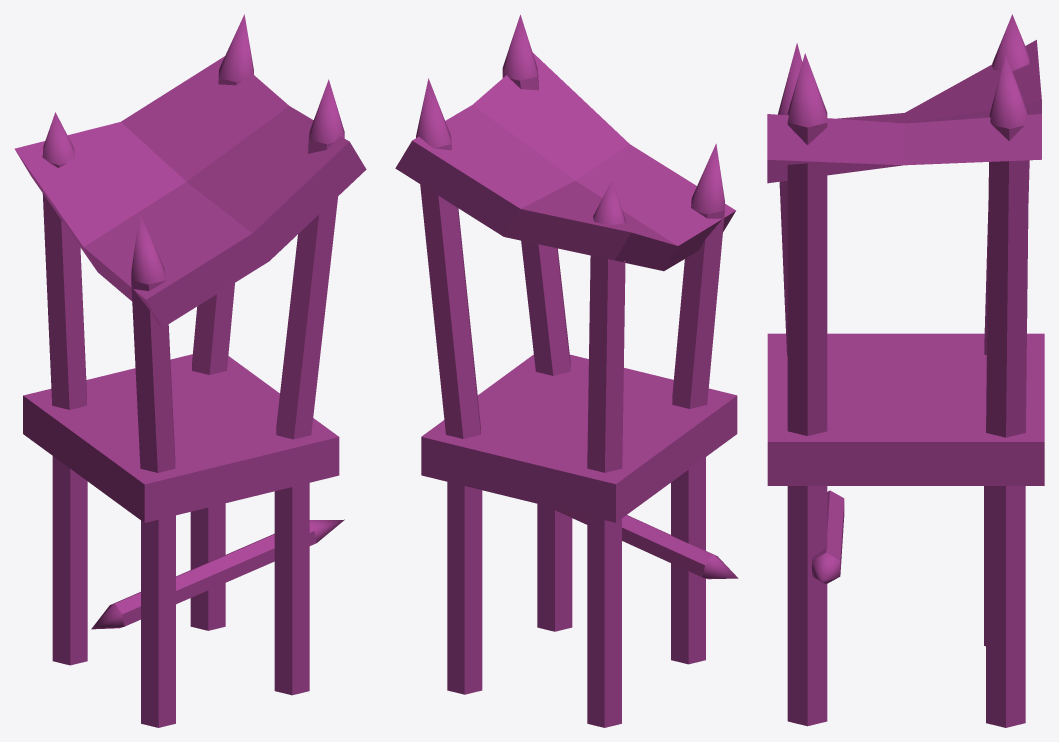
File: SM_Bld_Tent_Basic_Platform_01_Collision.fbx
The picture shows the model from 3 angles, left to right: view 1: azimuth 30°, elevation 25°; view 2: azimuth 150°, elevation 25°; view 3: azimuth 270°, elevation 25°; orthographic projection. The views are drawn at different scales.
Parts seen in each view (by area): view 1: SM_Bld_Tent_Basic_Platform_01_Collision; view 2: SM_Bld_Tent_Basic_Platform_01_Collision; view 3: SM_Bld_Tent_Basic_Platform_01_Collision.
Part boxes in pixels (x1,y1,x2,y2): SM_Bld_Tent_Basic_Platform_01_Collision: (14,14,366,727); SM_Bld_Tent_Basic_Platform_01_Collision: (395,14,738,727); SM_Bld_Tent_Basic_Platform_01_Collision: (767,14,1044,727).
Bounding box in the file's own units: 351 × 799 × 294.
